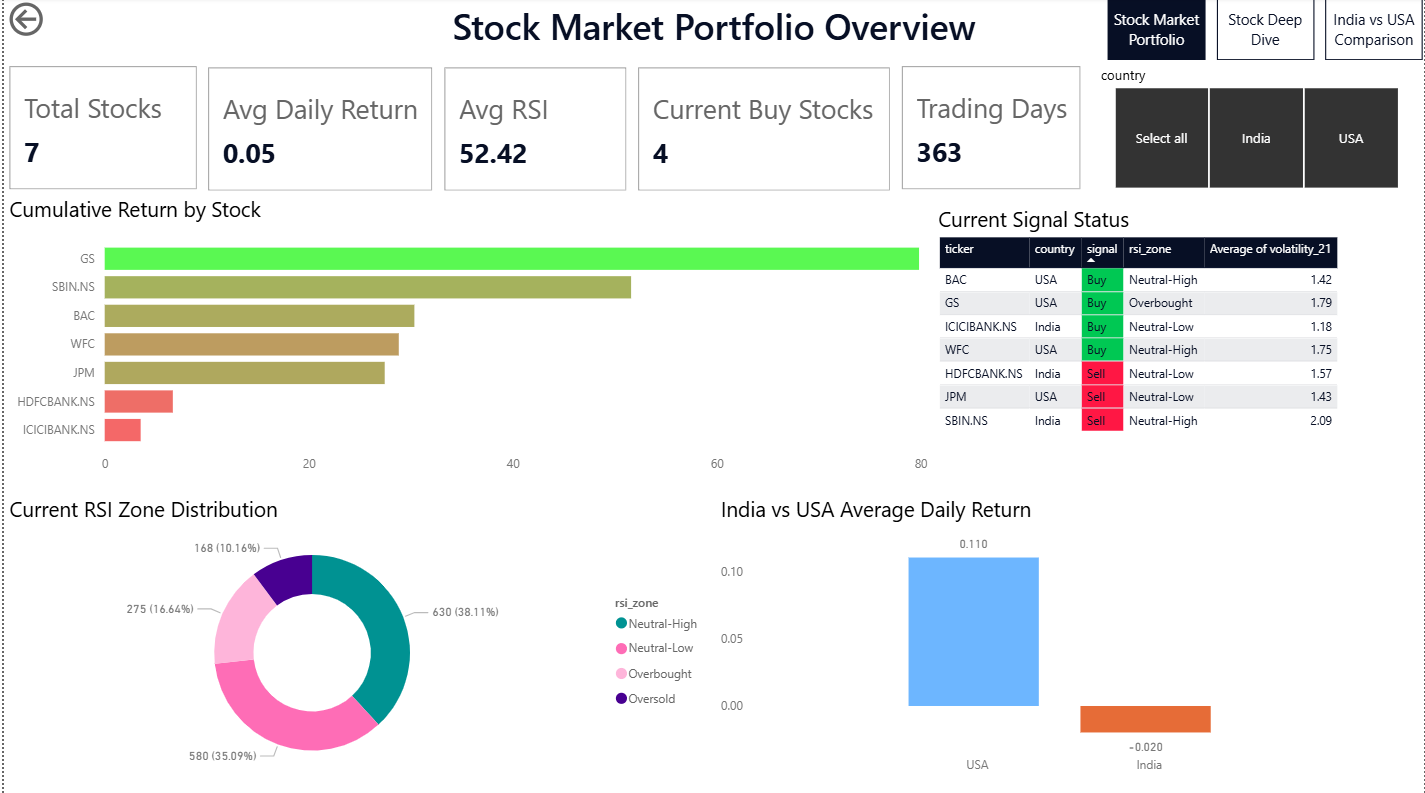

The page's visual inventory and layout, read from the dashboard file:
{"tool":"powerbi","page":{"name":"Stock Market Portfolio","canvas":[1280,720],"ordinal":0},"visuals":[{"type":"cardVisual","fields":{"Data":["stock_prices.Total Stocks"]},"box":[0,57.5,179.8,121.1],"z":0},{"type":"cardVisual","fields":{"Data":["stock_prices.Avg Daily Return"]},"box":[179.8,58.7,212.8,121.1],"z":1000},{"type":"cardVisual","fields":{"Data":["stock_prices.Avg RSI"]},"box":[392.5,58.7,174.9,121.1],"z":2000},{"type":"cardVisual","fields":{"Data":["LatestStockStatus.Current Buy Stocks"]},"box":[567.4,58.7,237.2,121.1],"z":3000},{"type":"clusteredBarChart","title":"Cumulative Return by Stock","fields":{"Category":["stock_prices.ticker"],"Y":["Max(stock_prices.cumulative_return_pct)"]},"box":[0,178.5,837.6,260.5],"z":4000},{"type":"tableEx","title":"Current Signal Status","fields":{"Values":["LatestStockStatus.ticker","LatestStockStatus.country","LatestStockStatus.signal","LatestStockStatus.rsi_zone","Avg(LatestStockStatus.volatility_21)"]},"box":[837.6,187.1,442.7,243.3],"z":5000},{"type":"actionButton","box":[0,0,100,40],"z":6000},{"type":"donutChart","title":"Current RSI Zone Distribution","fields":{"Category":["stock_prices.rsi_zone"],"Y":["CountNonNull(stock_prices.ticker)"]},"box":[0,449,639,261],"z":7000},{"type":"clusteredColumnChart","title":"India vs USA Average Daily Return","fields":{"Category":["stock_prices.country"],"Y":["stock_prices.Avg Return Country"]},"box":[641,449,598,261],"z":8000},{"type":"slicer","fields":{"Values":["stock_prices.country"]},"box":[975.8,57.5,304.5,121.1],"z":9000},{"type":"textbox","box":[0,0,1280.3,57.5],"z":10000},{"type":"cardVisual","fields":{"Data":["stock_prices.Date Range"]},"box":[804.6,57.5,171.2,121.1],"z":11000},{"type":"pageNavigator","box":[995.4,0,284.9,57.5],"z":11002}]}

Visuals, with their boxes in screenshot pixels (x1, y1, x2, y2), scaled from the page's 1280x720 canvas onto the 1425x793 screenshot:
cardVisual - stock_prices.Total Stocks: bbox=(0, 63, 200, 197)
cardVisual - stock_prices.Avg Daily Return: bbox=(200, 65, 437, 198)
cardVisual - stock_prices.Avg RSI: bbox=(437, 65, 632, 198)
cardVisual - LatestStockStatus.Current Buy Stocks: bbox=(632, 65, 896, 198)
"Cumulative Return by Stock" clusteredBarChart: bbox=(0, 197, 932, 484)
"Current Signal Status" tableEx: bbox=(932, 206, 1424, 474)
actionButton: bbox=(0, 0, 111, 44)
"Current RSI Zone Distribution" donutChart: bbox=(0, 495, 711, 782)
"India vs USA Average Daily Return" clusteredColumnChart: bbox=(714, 495, 1379, 782)
slicer - stock_prices.country: bbox=(1086, 63, 1424, 197)
textbox: bbox=(0, 0, 1424, 63)
cardVisual - stock_prices.Date Range: bbox=(896, 63, 1086, 197)
pageNavigator: bbox=(1108, 0, 1424, 63)
